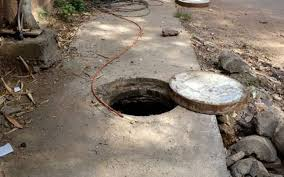manhole: (81, 41, 251, 151)
